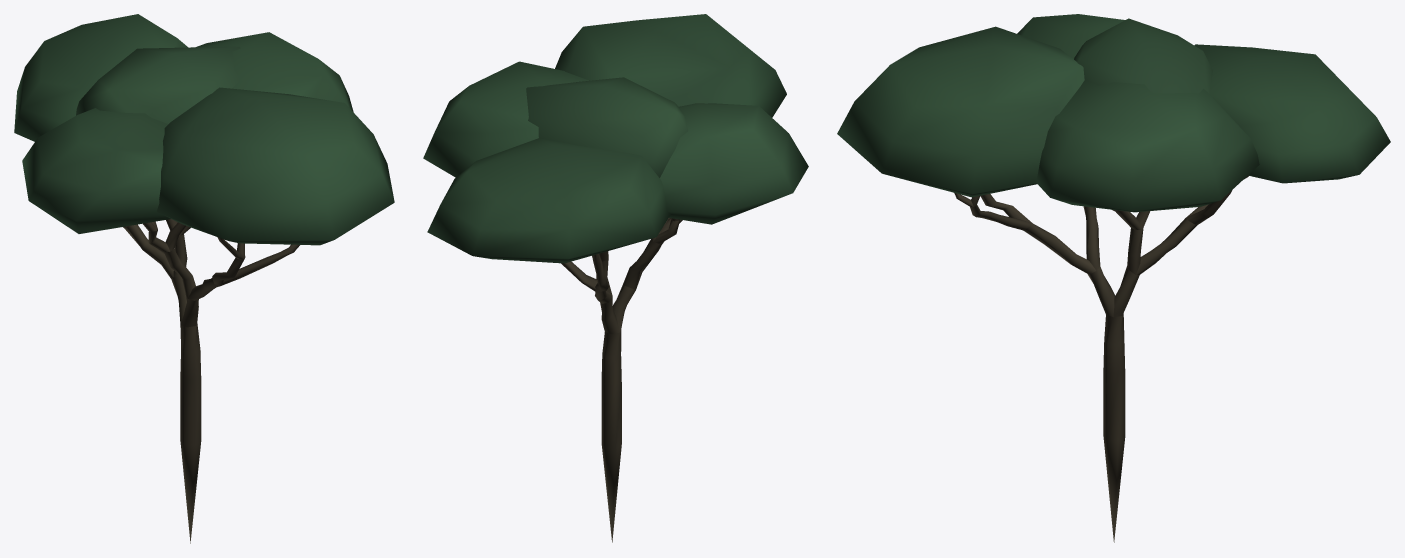
File: trees-broadleaf-trees-acacia-tree_v3.fbx
3 views of the same model, side by side, from view 1: azimuth 30°, elevation 25°; view 2: azimuth 150°, elevation 25°; view 3: azimuth 270°, elevation 25° (orthographic). The views are drawn at different scales.
Parts seen in each view (by area): view 1: Acacia Tree_v3; view 2: Acacia Tree_v3; view 3: Acacia Tree_v3.
Boxes of the visible parts, left/top/right/bottom form: Acacia Tree_v3: left=14, top=14, right=394, bottom=543; Acacia Tree_v3: left=423, top=14, right=808, bottom=542; Acacia Tree_v3: left=837, top=14, right=1390, bottom=542.
Bounding box in the file's own units: 7.42 × 10 × 9.97.
